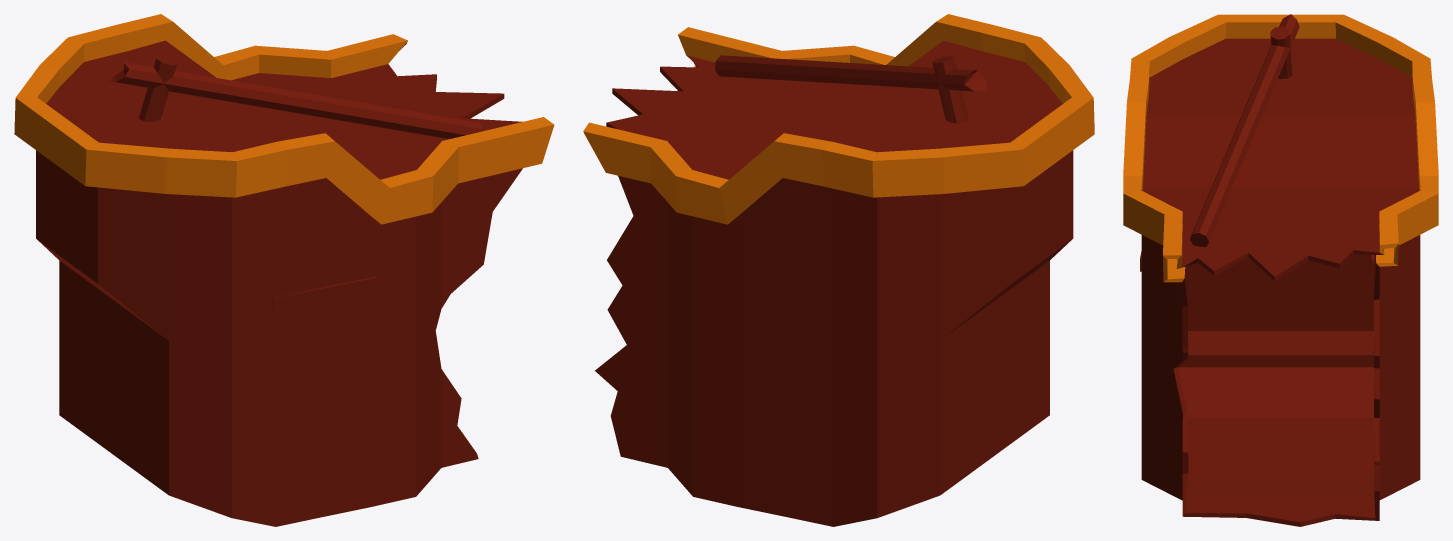
File: MerchantShop.fbx
3 views of the same model, side by side, from view 1: azimuth 30°, elevation 25°; view 2: azimuth 150°, elevation 25°; view 3: azimuth 270°, elevation 25° (orthographic). The views are drawn at different scales.
Parts seen in each view (by area): view 1: MerchantShop; view 2: MerchantShop; view 3: MerchantShop.
Boxes of the visible parts, x1,y1,x2,y2 form: MerchantShop: (14, 14, 554, 526); MerchantShop: (583, 14, 1094, 526); MerchantShop: (1123, 14, 1438, 526).
Size of the model in its own units: 516 by 464 by 353.
